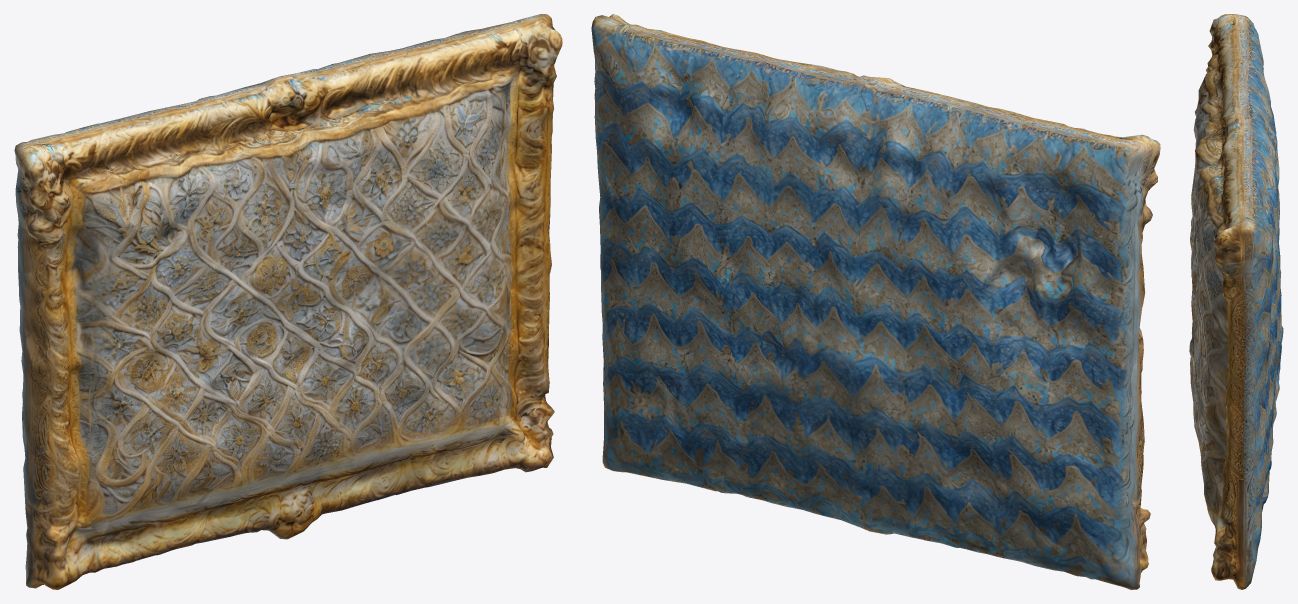
Rendered from Museum_wall_model_tha_0806180741_refine.obj.
The picture shows the model from 3 angles, left to right: view 1: azimuth 30°, elevation 25°; view 2: azimuth 150°, elevation 25°; view 3: azimuth 270°, elevation 25°; orthographic projection. The views are drawn at different scales.
Visible parts, largest first — view 1: Mesh_0; view 2: Mesh_0; view 3: Mesh_0.
Part boxes in pixels (x1,y1,x2,y2): Mesh_0: (14,14,562,589); Mesh_0: (591,14,1160,589); Mesh_0: (1189,14,1283,589).
Bounding box in the file's own units: 1.2 × 0.9579 × 0.2183.
1 material, 1 textured.
